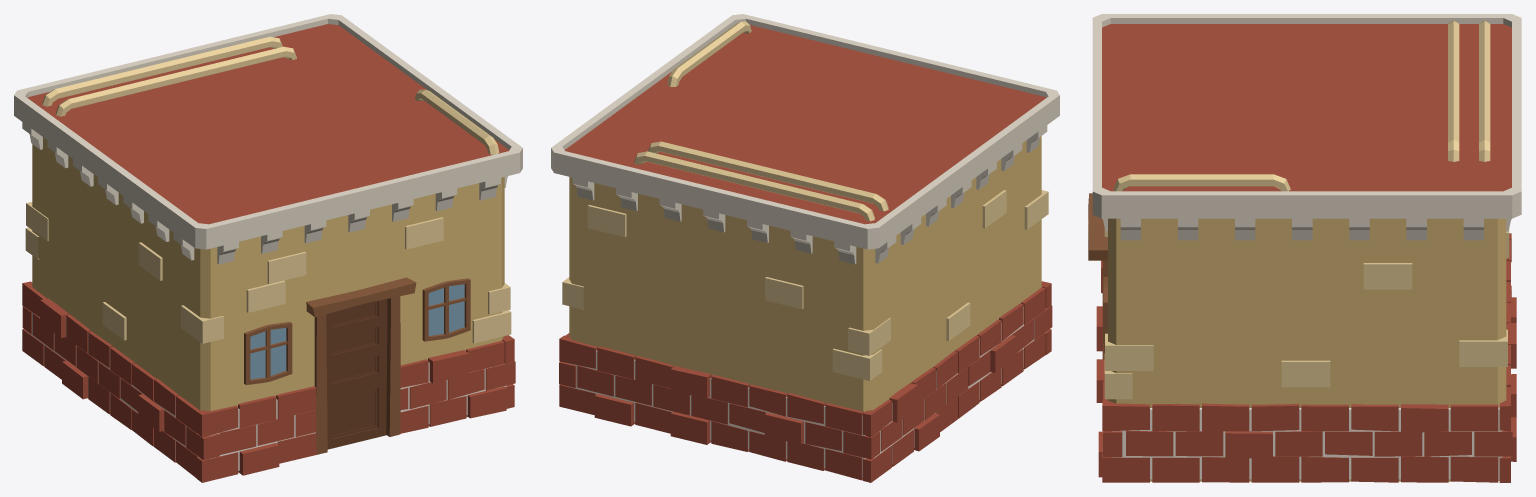
The model's file is q_1Story.obj.
3 renders of one model, left to right at view 1: azimuth 30°, elevation 25°; view 2: azimuth 150°, elevation 25°; view 3: azimuth 270°, elevation 25°, orthographic. The views are drawn at different scales.
Parts seen in each view (by area): view 1: 1Story_Cube.093; view 2: 1Story_Cube.093; view 3: 1Story_Cube.093.
Boxes of the visible parts, box(x1,y1,x2,y2) form: 1Story_Cube.093: box(14, 14, 522, 482); 1Story_Cube.093: box(551, 14, 1059, 482); 1Story_Cube.093: box(1088, 14, 1521, 482).
Size of the model in its own units: 2.15 by 1.67 by 2.17.
1 material, 1 textured.
